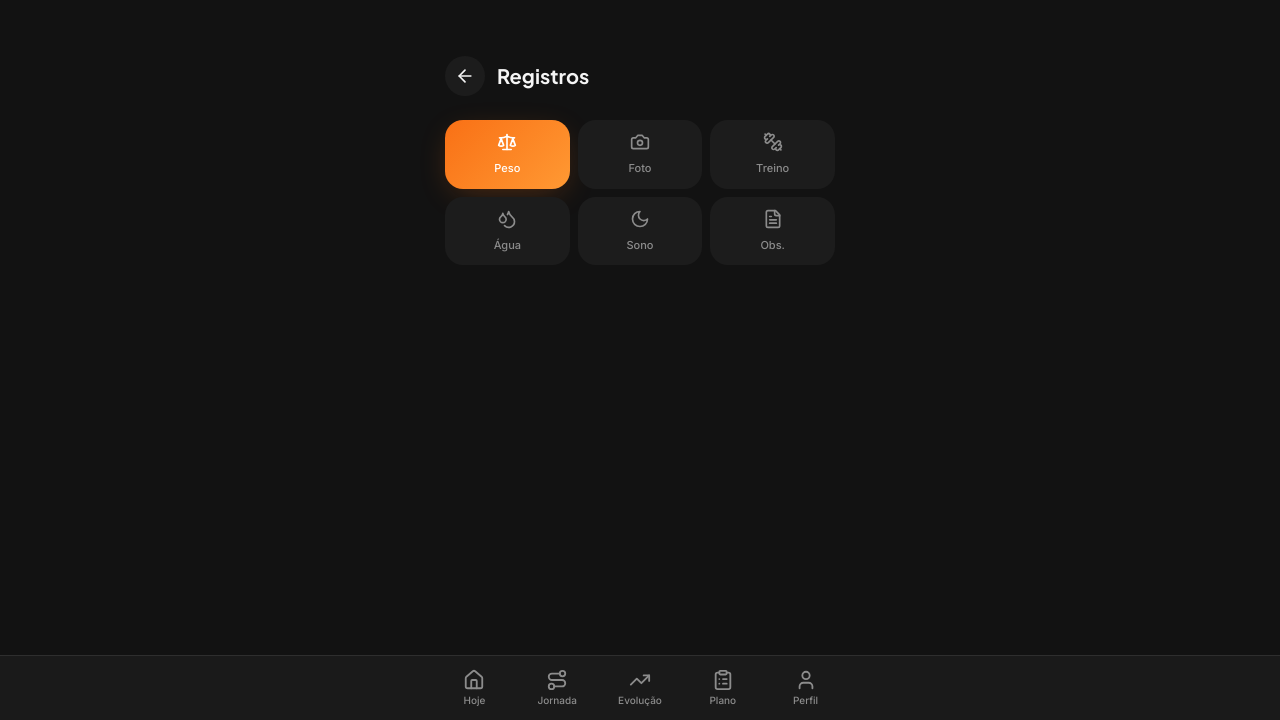
Test: Foto evolutiva / guia de pose (PDF do Ernâni, tela 05) › frente e costas da semana: check nas duas e a próxima é o lado
Click the button "Foto" at (640, 154), box [578,120,702,188]
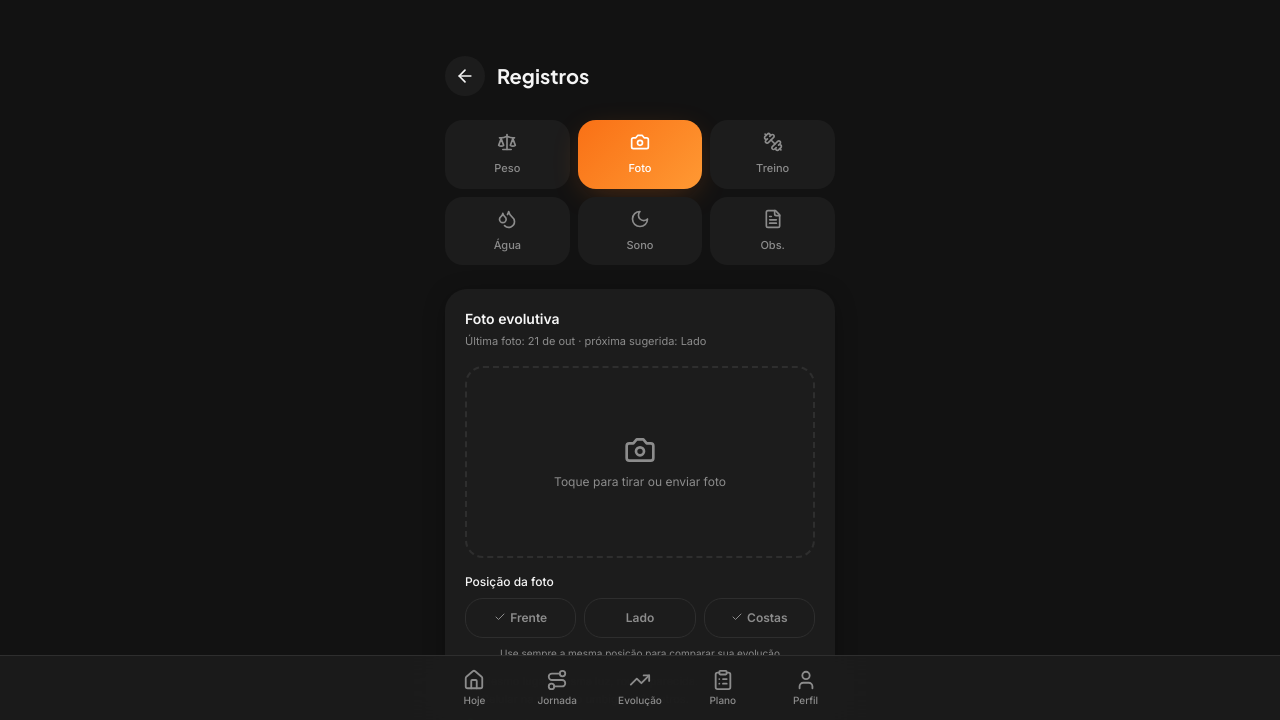
Expected: the text with test id "pose-series-line" shows "próxima sugerida: Lado", [575,334,706,348]
Expected: the number of icons named "já fotografada nesta semana" is 2, [494,611,506,623]; [731,611,743,623]
